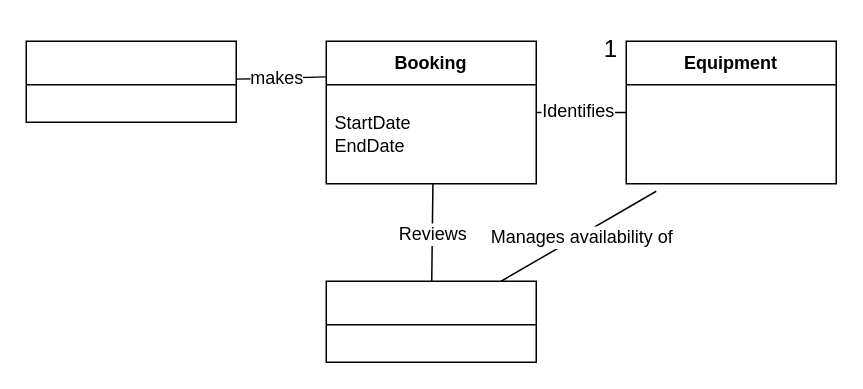
Some shapes in this 863 by 389 pixel diagram are drawn without their labels. The shapes that lost their labels are listed below. From the top down, each one's centre as x and y in pixels, then its label:
point (130, 81): Student
point (430, 321): Staff Member
